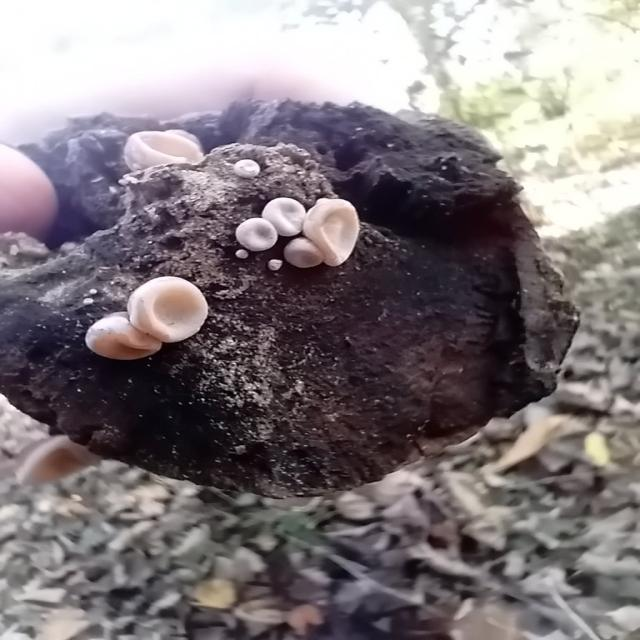Fase Muda: (128, 274, 222, 339), (83, 307, 169, 366), (124, 127, 211, 173), (312, 197, 362, 269)
primordia: (238, 218, 280, 251), (286, 237, 328, 267), (266, 199, 304, 232), (232, 156, 261, 179), (269, 256, 288, 274), (236, 246, 253, 260)
